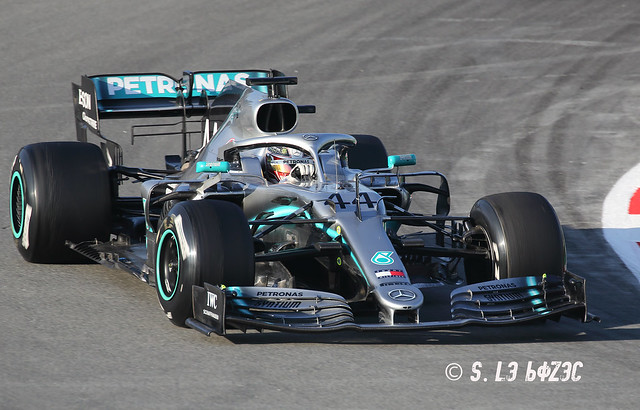F1 Car: (3, 64, 605, 345)
